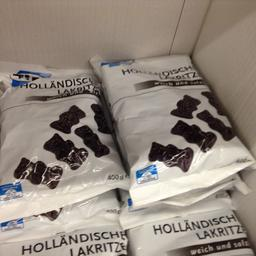candy: (89, 52, 254, 204), (0, 60, 115, 226)
